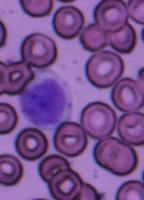L: (19, 76, 71, 128)
